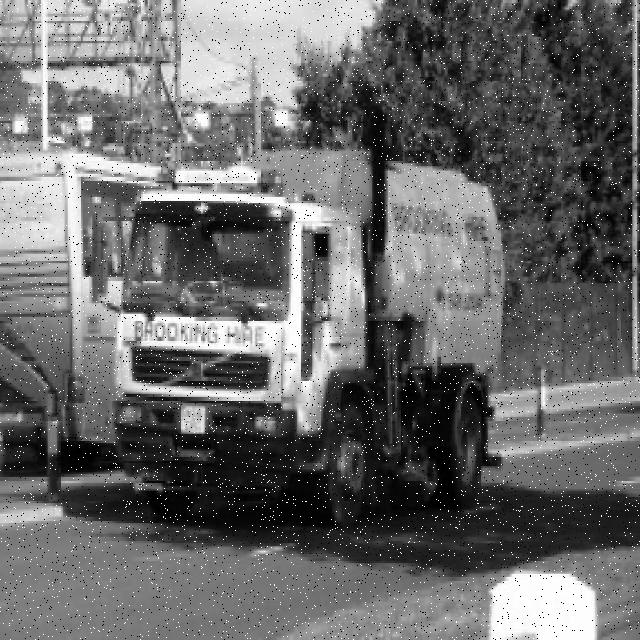Garbage Truck: (114, 149, 506, 529)
